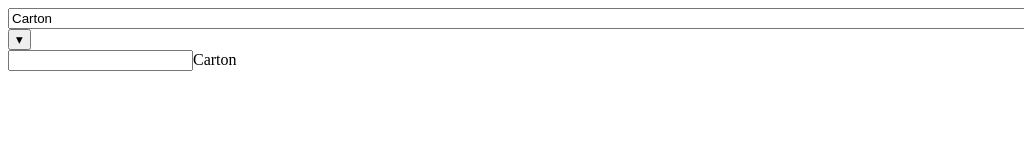
a field somebody can type into or pick from › LEAD-31: the chevron shows every option, not just the one it holds
Press the mouse on the button named "Show packaging options" at (19, 40), box [8, 29, 31, 50]
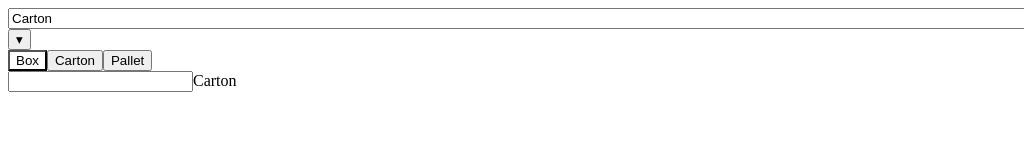
Expected: the option "Box" is shown, [8, 50, 47, 71]
Expected: the option "Pallet" is shown, [103, 50, 152, 71]
